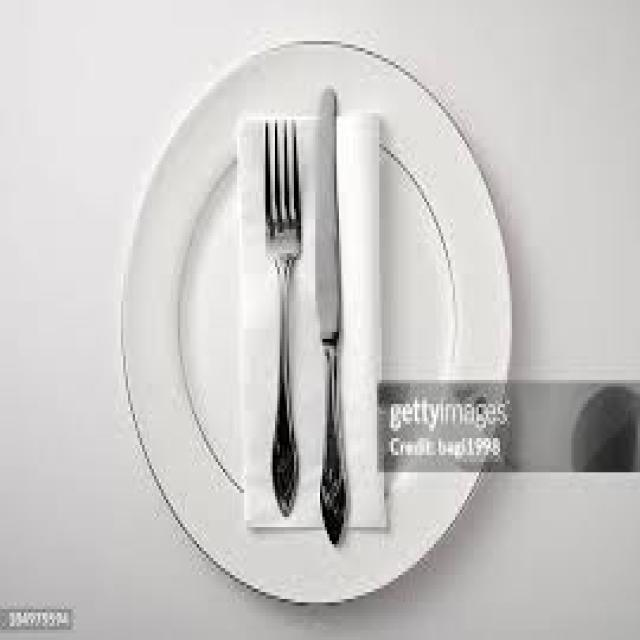Knife: (313, 86, 346, 544)
